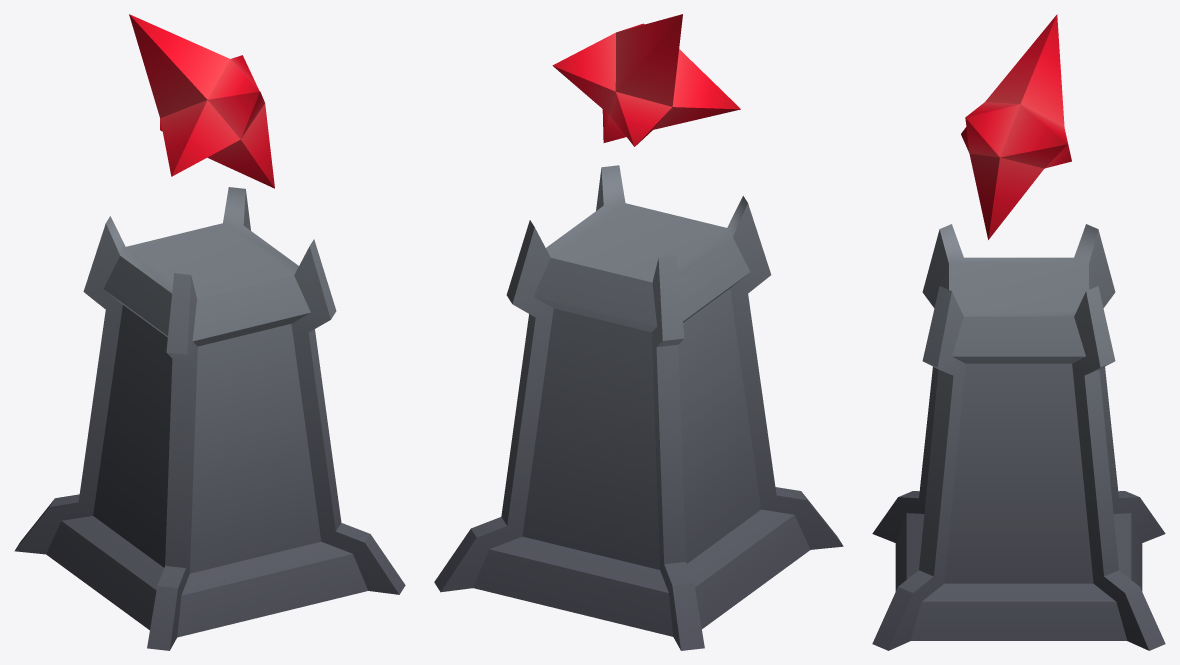
File: SM_Tower_Damage.fbx
The picture shows the model from 3 angles, left to right: view 1: azimuth 30°, elevation 25°; view 2: azimuth 150°, elevation 25°; view 3: azimuth 270°, elevation 25°; orthographic projection. The views are drawn at different scales.
Visible parts, largest first — view 1: Tower_Damage, Crystal_Damage; view 2: Tower_Damage, Crystal_Damage; view 3: Tower_Damage, Crystal_Damage.
Boxes of the visible parts, x1,y1,x2,y2 form: Tower_Damage: (14, 187, 405, 650); Crystal_Damage: (129, 14, 274, 188); Tower_Damage: (434, 165, 843, 650); Crystal_Damage: (552, 14, 740, 146); Tower_Damage: (872, 224, 1165, 650); Crystal_Damage: (961, 14, 1071, 239).
Bounding box in the file's own units: 118 × 243 × 118.
